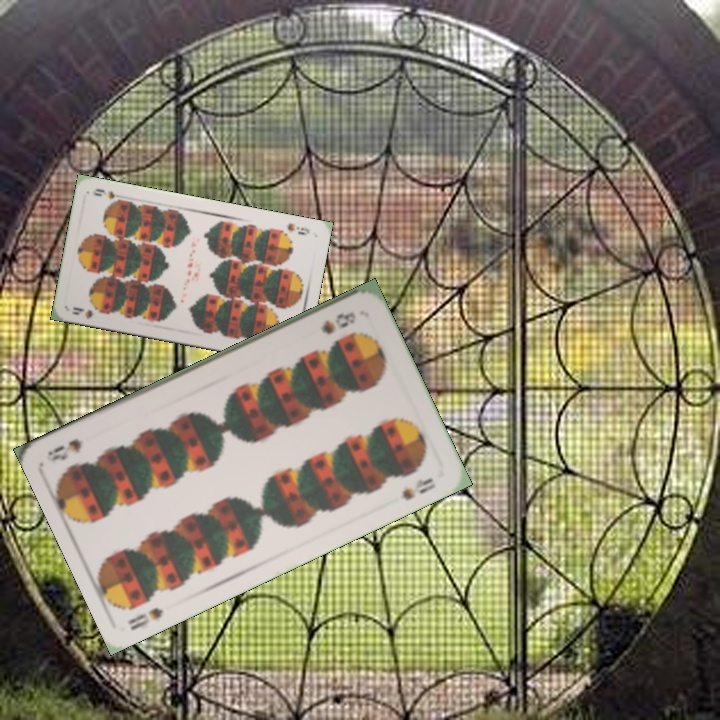S8: (317, 307, 359, 337), (124, 603, 166, 633)
S9: (68, 303, 108, 321), (283, 219, 312, 238)
